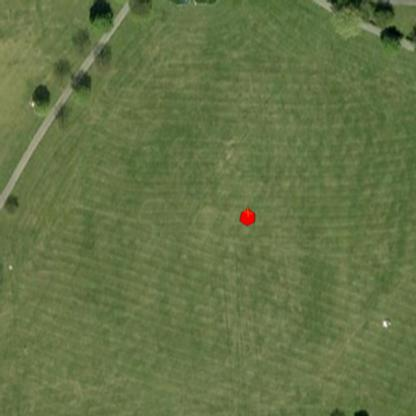hexagon: (238, 206, 257, 228)
